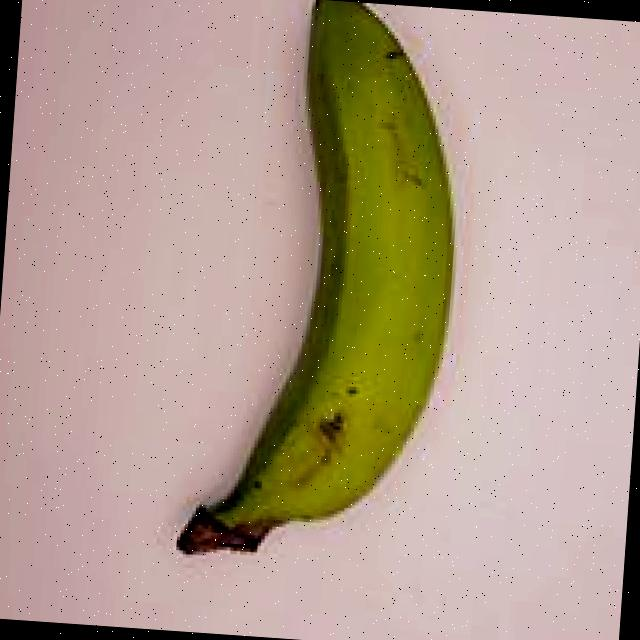Raw: (165, 0, 480, 581)
